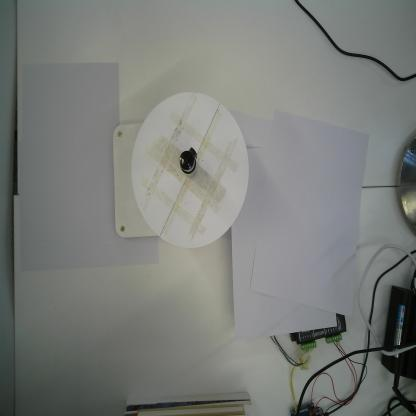Stationery: (179, 147, 198, 179)
